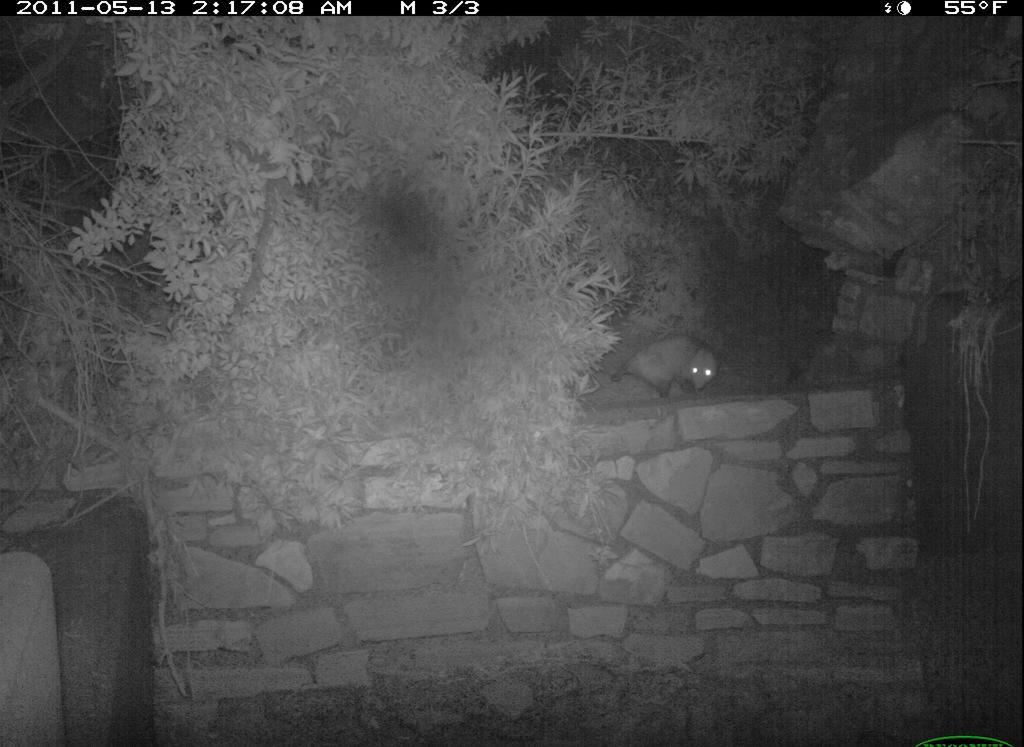opossum: (615, 331, 729, 413)
